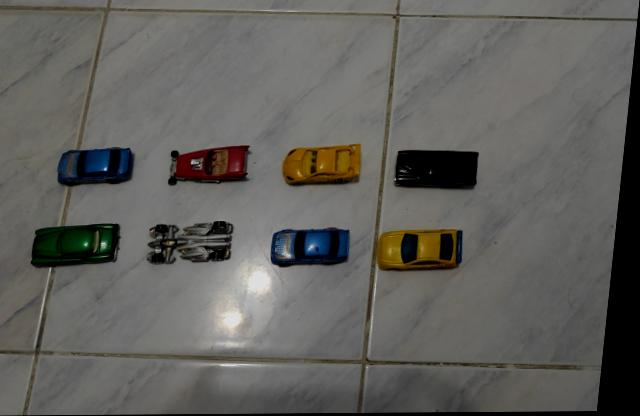01_FORD: (397, 151, 482, 191)
02_OZSOME: (382, 230, 469, 273)
03_V8: (169, 145, 254, 187)
04_MERZEDES: (275, 229, 357, 269), (59, 149, 138, 188)
05_DC121: (151, 222, 239, 267)
06_MASERATI: (36, 224, 125, 270)
07_RHLTURBO: (284, 145, 364, 188)
